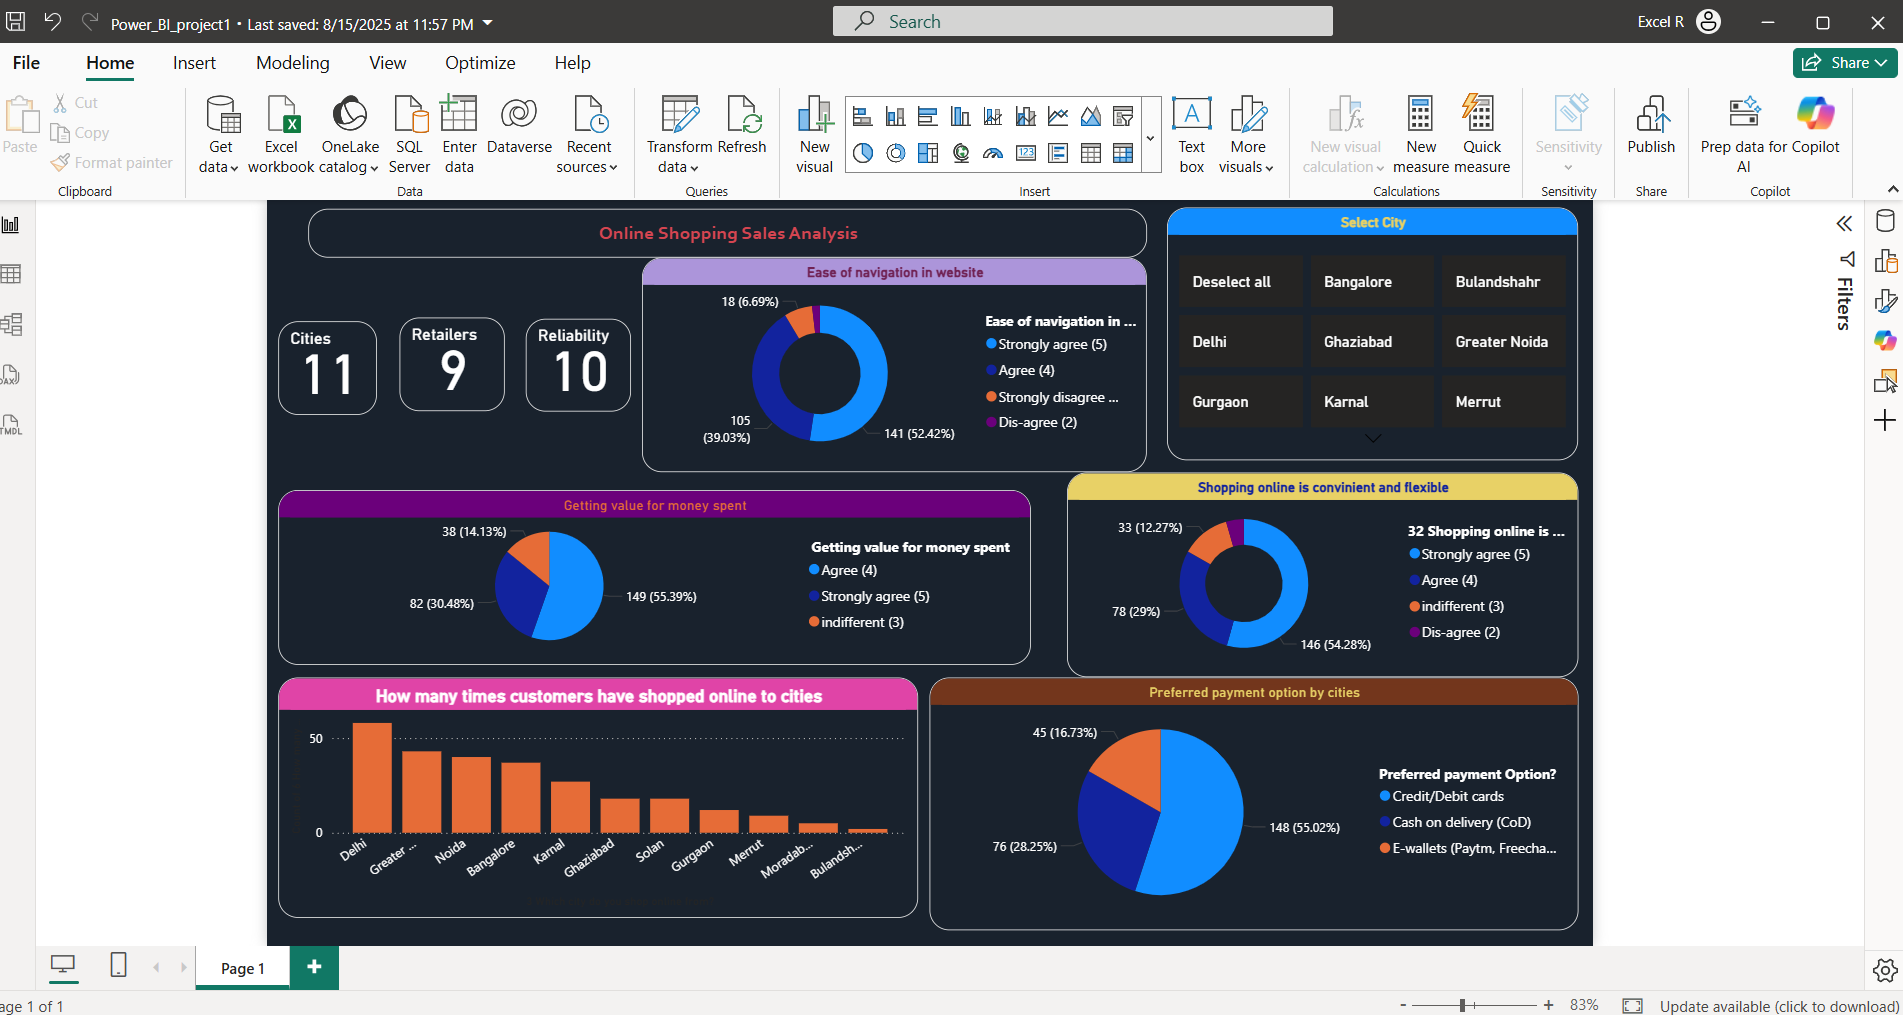

The page's visual inventory and layout, read from the dashboard file:
{"tool":"powerbi","page":{"name":"Page 1","canvas":[1280,720],"ordinal":0},"visuals":[{"type":"pieChart","title":"Preferred payment option by cities","fields":{"Category":["datasheet.15 What is your preferred payment Option?                                                                     "],"Y":["CountNonNull(datasheet.3 Which city do you shop online from?)"]},"box":[639.4,460.9,599.6,243.7],"z":0},{"type":"columnChart","title":"How many times customers have shopped online to cities","fields":{"Y":["CountNonNull(datasheet.6 How many times you have made an online purchase in the past 1 year?)"],"Category":["datasheet.3 Which city do you shop online from?"]},"box":[10.9,460.9,602,231.6],"z":1000},{"type":"donutChart","title":"Ease of navigation in website","fields":{"Category":["datasheet.22 Ease of navigation in website"],"Y":["CountNonNull(datasheet.1Gender of respondent)"]},"box":[361.9,55.5,487.4,207.5],"z":2000},{"type":"textbox","box":[39.8,8.4,809.5,47.1],"z":3000},{"type":"donutChart","title":"Shopping online is convinient and flexible","fields":{"Category":["datasheet.32 Shopping online is convenient and flexible"],"Y":["CountNonNull(datasheet.1Gender of respondent)"]},"box":[772.1,263,493.4,197.9],"z":4000},{"type":"pieChart","title":"Getting value for money spent","fields":{"Category":["datasheet.47 Getting value for money spent"],"Y":["CountNonNull(datasheet.1Gender of respondent)"]},"box":[10.9,279.9,726.3,168.9],"z":5000},{"type":"advancedSlicerVisual","title":"Select city","fields":{"Values":["datasheet.3 Which city do you shop online from?"]},"box":[868.6,7.2,384.9,243.7],"z":6000},{"type":"card","title":"Cities","fields":{"Values":["Count(datasheet.3 Which city do you shop online from?)"]},"box":[10.9,117,95.3,90.5],"z":7000},{"type":"card","title":"Retailers","fields":{"Values":["Count(datasheet.From the following, tick any (or all) of the online retailers you have shopped from;                      "]},"box":[127.9,113.4,101.3,90.5],"z":8000},{"type":"card","title":"Reliability","fields":{"Values":["Count(datasheet.Reliability of the website or application)"]},"box":[249.7,114.6,101.3,89.3],"z":9000}]}

Visuals, with their boxes on the page's 1280x720 design canvas (x1, y1, x2, y2). These are canvas units, not pixel positions in the 1903x1015 screenshot, which may show the page scaled, cropped or inside an application window:
"Preferred payment option by cities" pieChart: 639, 461, 1239, 705
"How many times customers have shopped online to cities" columnChart: 11, 461, 613, 692
"Ease of navigation in website" donutChart: 362, 56, 849, 263
textbox: 40, 8, 849, 56
"Shopping online is convinient and flexible" donutChart: 772, 263, 1266, 461
"Getting value for money spent" pieChart: 11, 280, 737, 449
"Select city" advancedSlicerVisual: 869, 7, 1254, 251
"Cities" card: 11, 117, 106, 208
"Retailers" card: 128, 113, 229, 204
"Reliability" card: 250, 115, 351, 204
